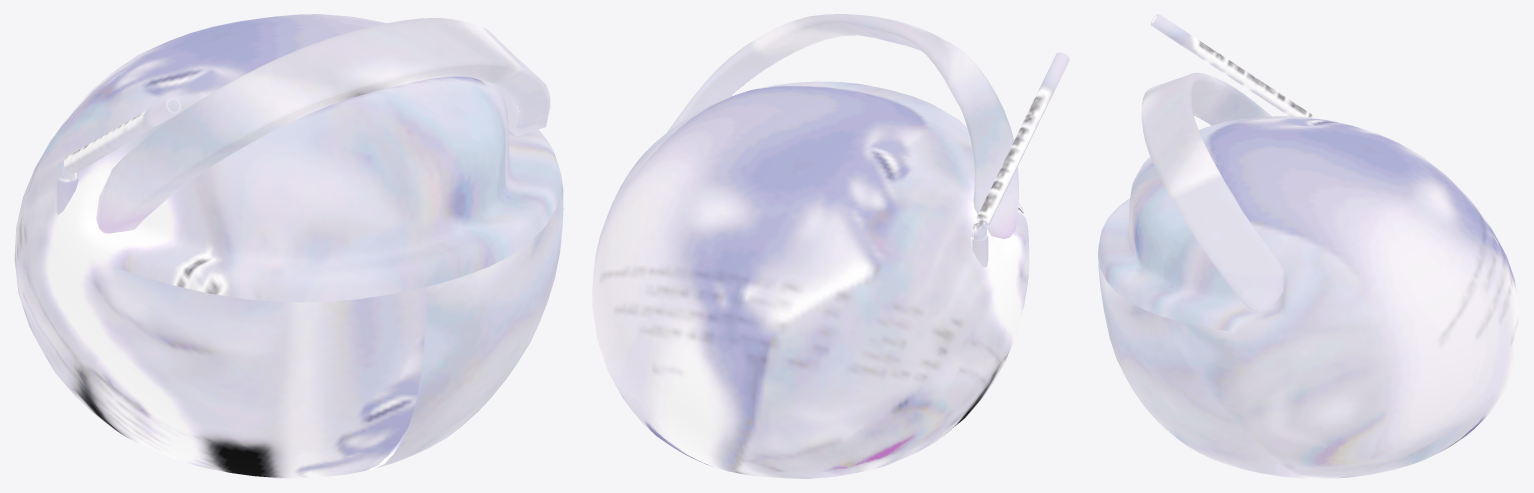
File: BoomBoxLight.gltf
3 views of the same model, side by side, from view 1: azimuth 30°, elevation 25°; view 2: azimuth 150°, elevation 25°; view 3: azimuth 270°, elevation 25° (orthographic). The views are drawn at different scales.
Visible parts, largest first — view 1: BoomBox; view 2: BoomBox; view 3: BoomBox.
Part boxes in pixels (box(x1,y1,x2,y2)): BoomBox: box(14, 14, 563, 478); BoomBox: box(592, 14, 1069, 478); BoomBox: box(1098, 14, 1519, 478).
Size of the model in its own units: 0.0198 by 0.018 by 0.0202.
Materials: 1 (1 with a texture image).
